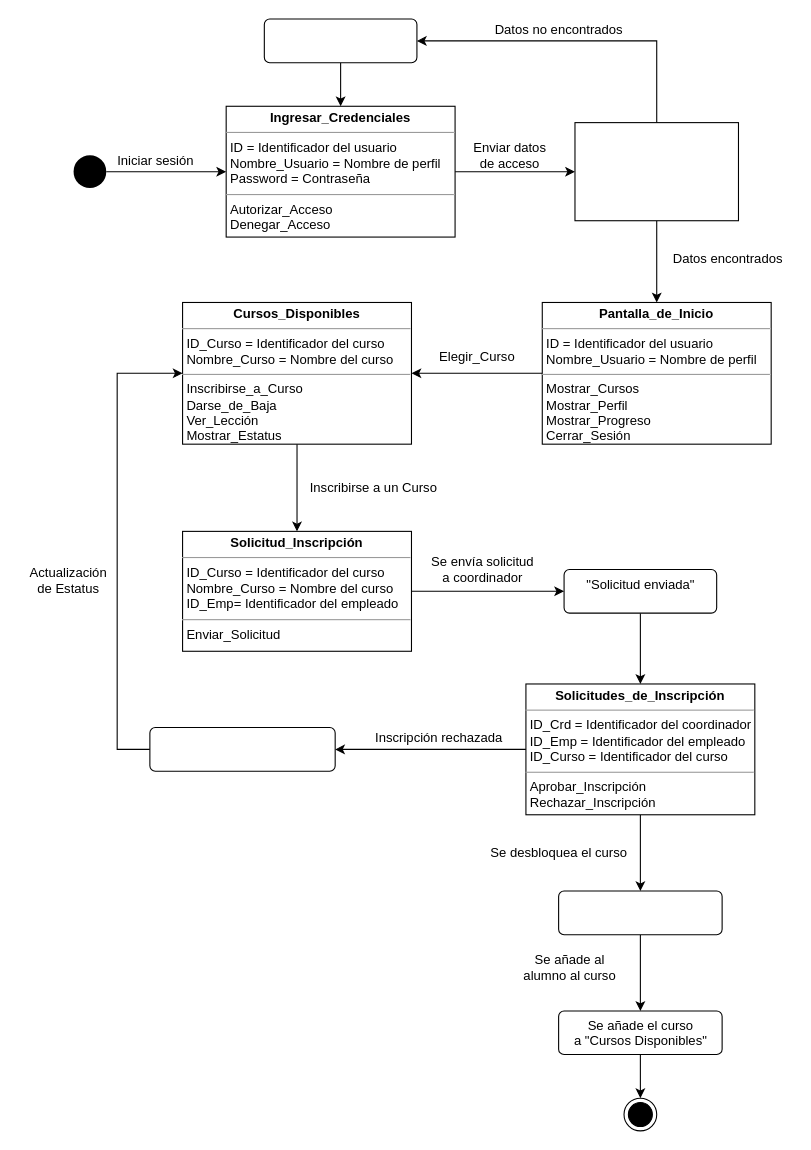
Some shapes in this 811 by 1150 pixel diagram are drawn without their labels. The shapes that lost their labels are listed below. From the top down, each one's box as (x1, y1, x2, y2) in pixels, then its label:
(263, 18, 417, 63): "Datos incorrectos"
(574, 122, 738, 221): Verificar_Datos Autorizar_Acceso Denegar_Acceso
(149, 726, 335, 771): El Estatus del curso cambia, descartando la solicitud
(558, 890, 722, 935): Notificación de aprobación
